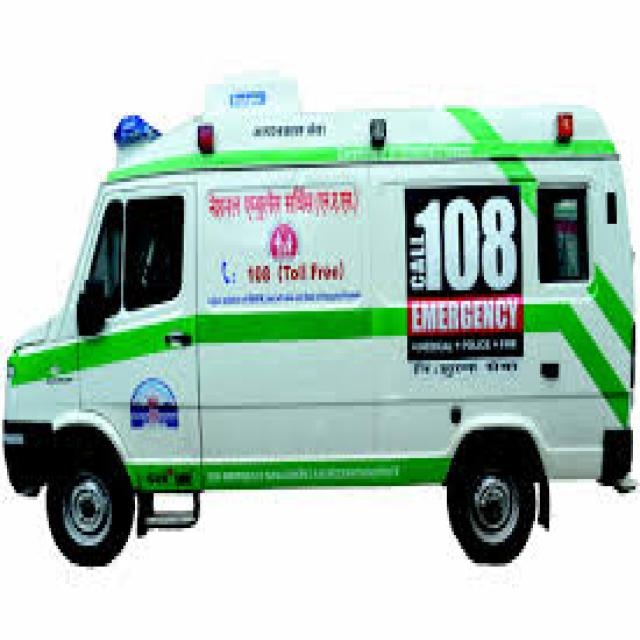ambulance: (5, 77, 635, 577)
